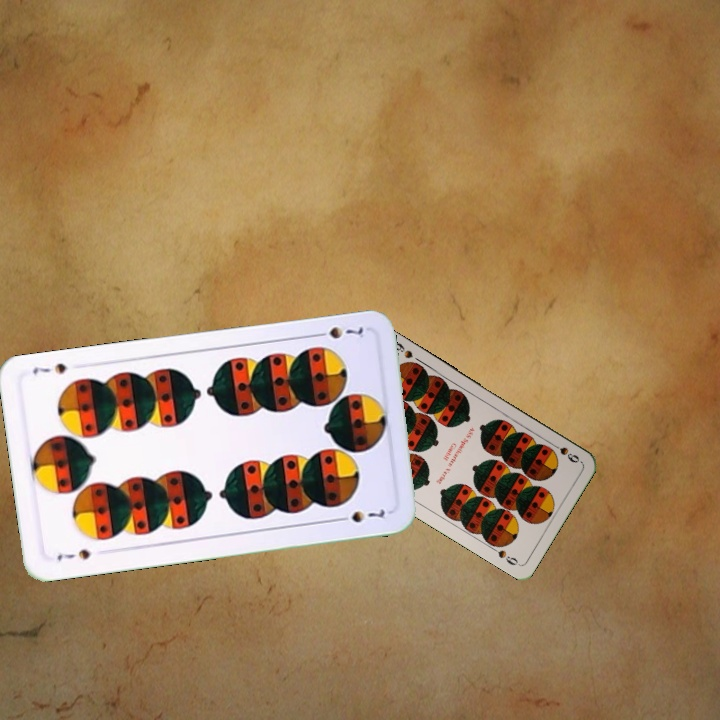S7: (310, 322, 367, 342), (53, 545, 93, 564)
S9: (546, 438, 582, 466)
